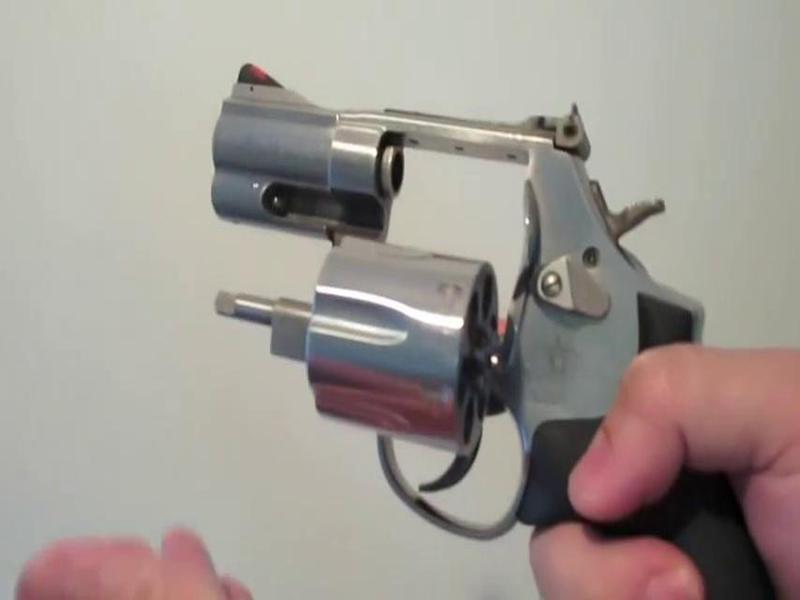Revolver: (197, 47, 759, 600)
